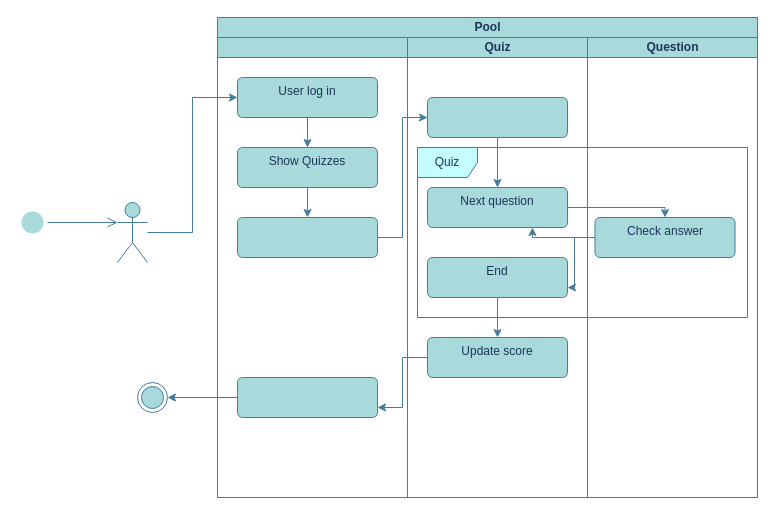
The diagram is 775 pixels wide and 515 high, and some of its shapes have lost their labels. The shapes that lost their labels are listed below. From the top down, each one's box as (x1, y1, x2, y2) in pixels, then its label:
(426, 96, 568, 138): Start
(116, 202, 148, 262): User
(236, 216, 378, 258): Start Quiz
(216, 36, 408, 498): App
(236, 376, 378, 418): Show Score
